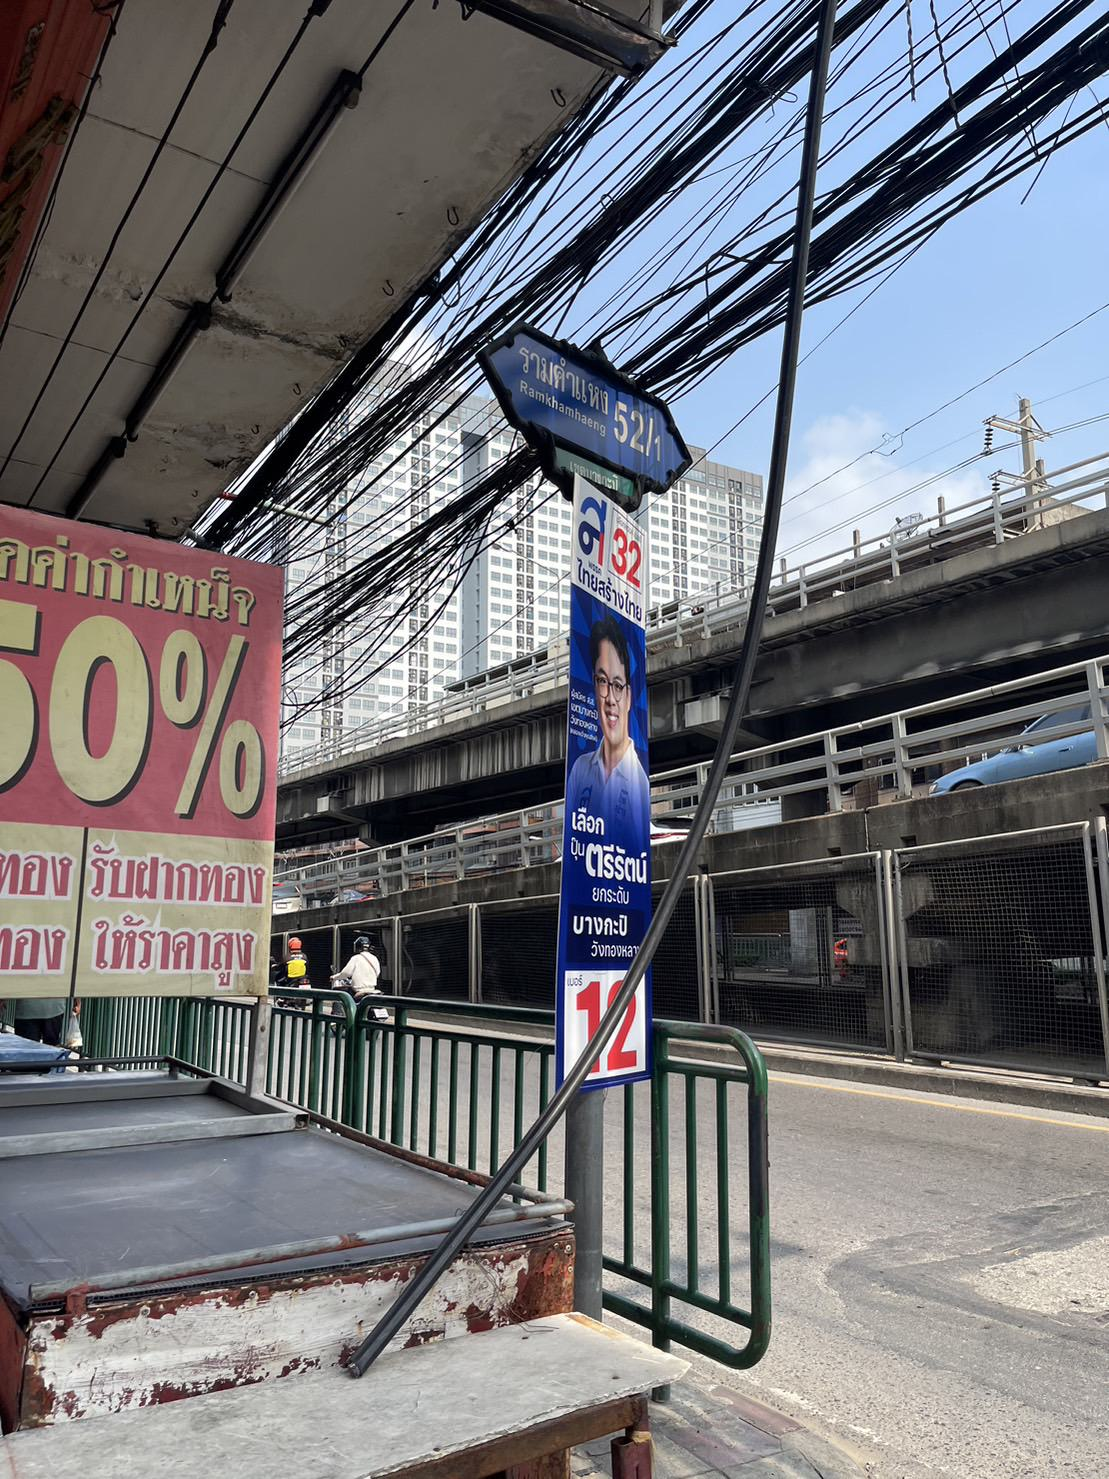Banner: (553, 474, 669, 1101)
